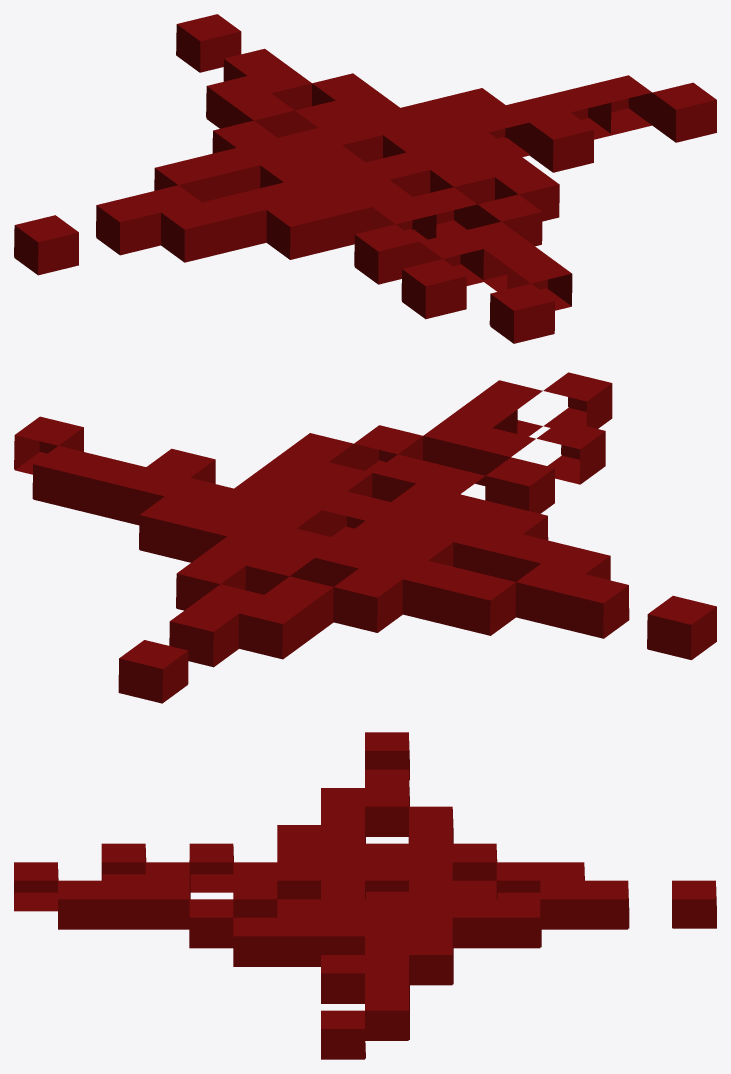
Rendered from redstone5.obj.
3 views of the same model, one above another, from view 1: azimuth 30°, elevation 25°; view 2: azimuth 150°, elevation 25°; view 3: azimuth 270°, elevation 25° (orthographic). The views are drawn at different scales.
Parts seen in each view (by area): view 1: Plane, Cube; view 2: Plane, Cube; view 3: Plane, Cube.
Boxes of the visible parts, x1,y1,x2,y2 form: Plane: (15,14,716,310); Cube: (14,24,716,343); Plane: (15,372,716,668); Cube: (14,383,716,703); Plane: (14,732,715,1028); Cube: (14,741,716,1059).
Size of the model in its own units: 1 by 0.0481 by 1.
Materials: 2 (2 with a texture image).
